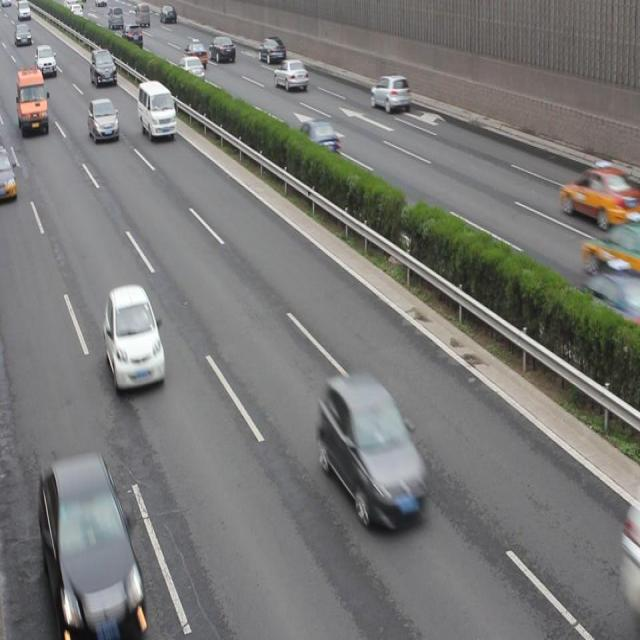car: (40, 457, 144, 640), (319, 373, 429, 530), (104, 284, 165, 393), (558, 161, 640, 229), (582, 225, 640, 282), (584, 267, 640, 325), (298, 118, 337, 162), (371, 74, 409, 112), (89, 96, 119, 140), (274, 58, 308, 90), (90, 49, 117, 84), (1, 150, 16, 200), (35, 44, 57, 76), (259, 38, 285, 64), (210, 38, 236, 62), (184, 40, 208, 66), (178, 56, 204, 79), (122, 24, 143, 48)
truck: (137, 80, 175, 138), (16, 69, 48, 132)
